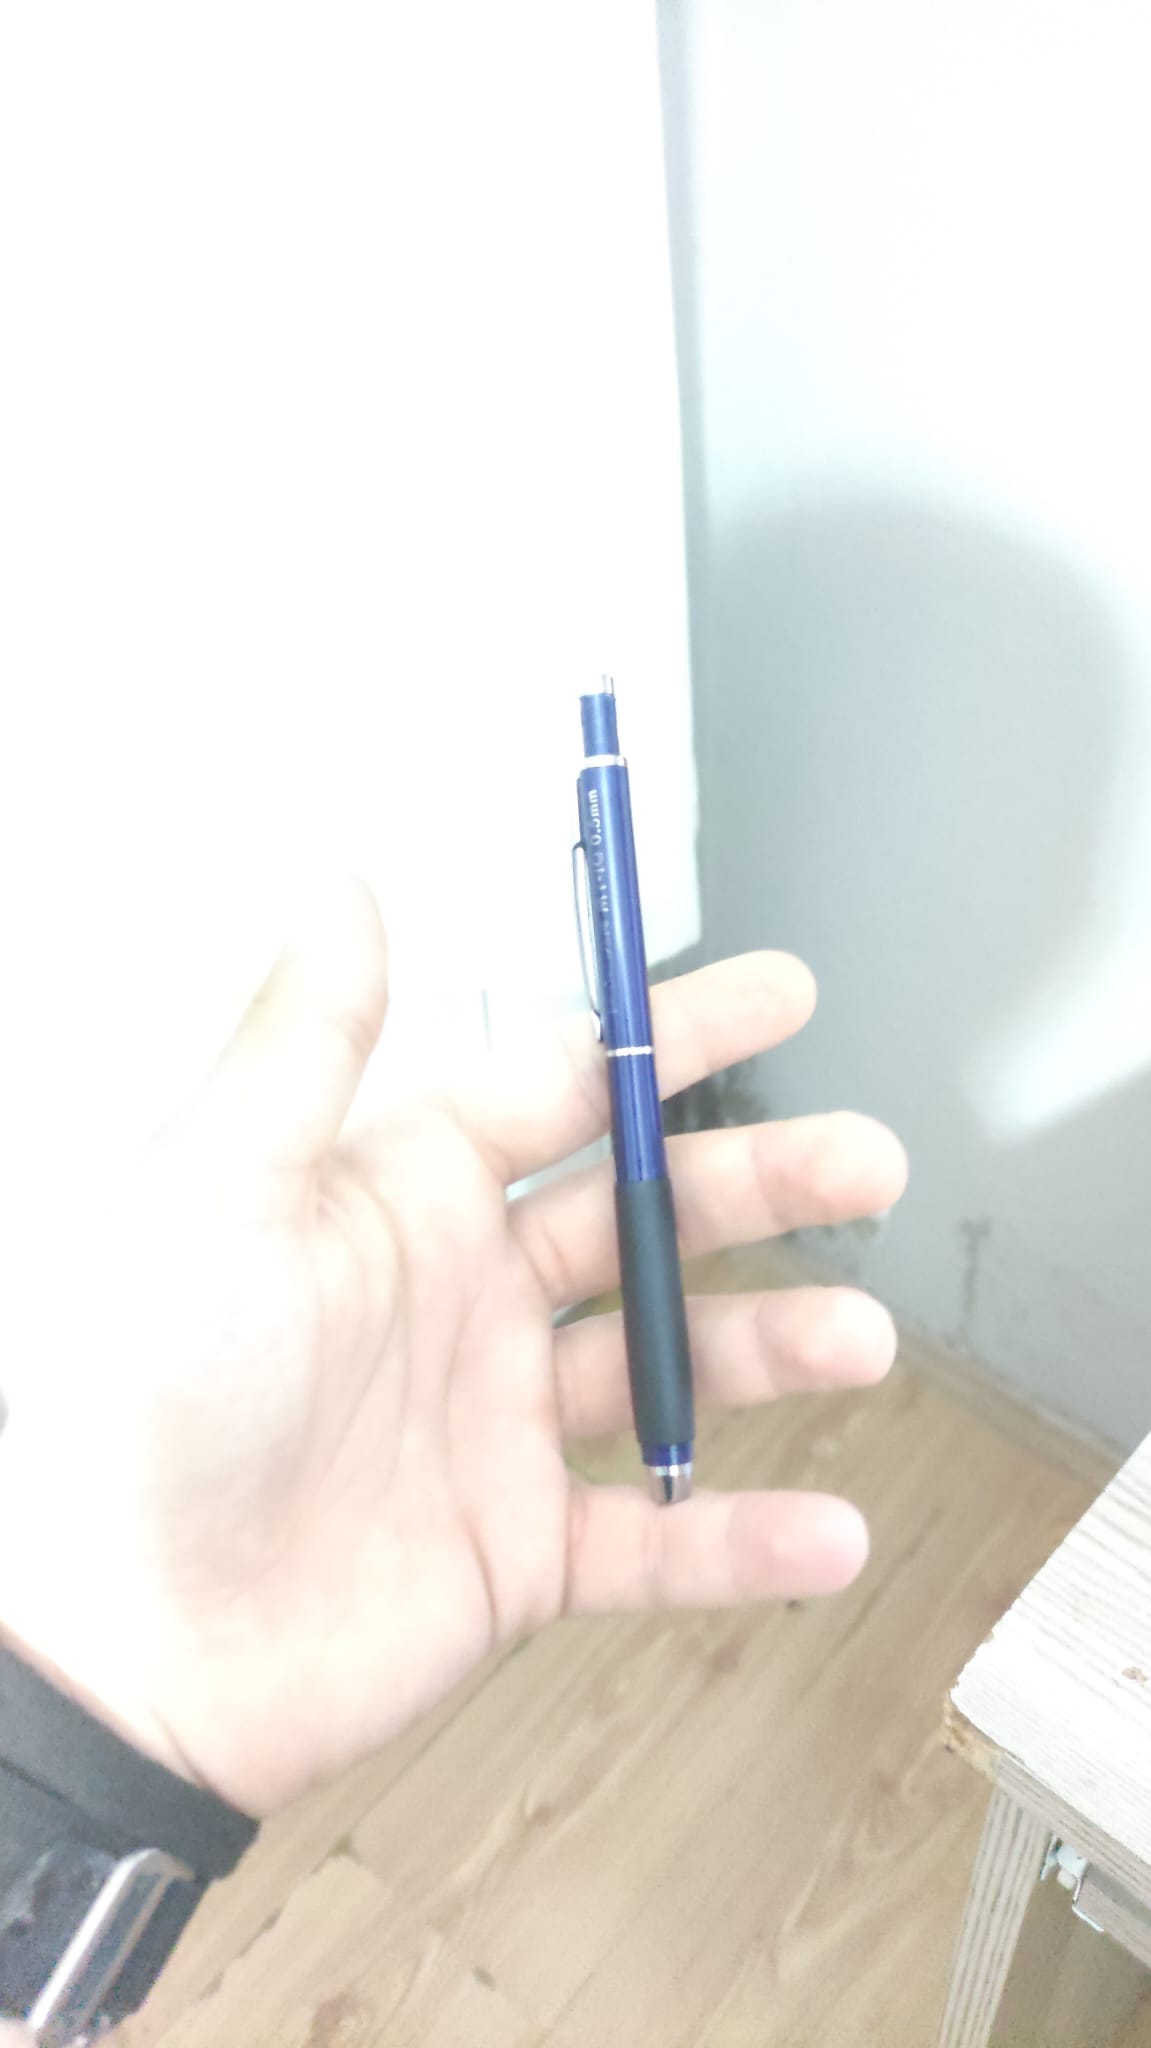kalem: (573, 679, 692, 1506)
